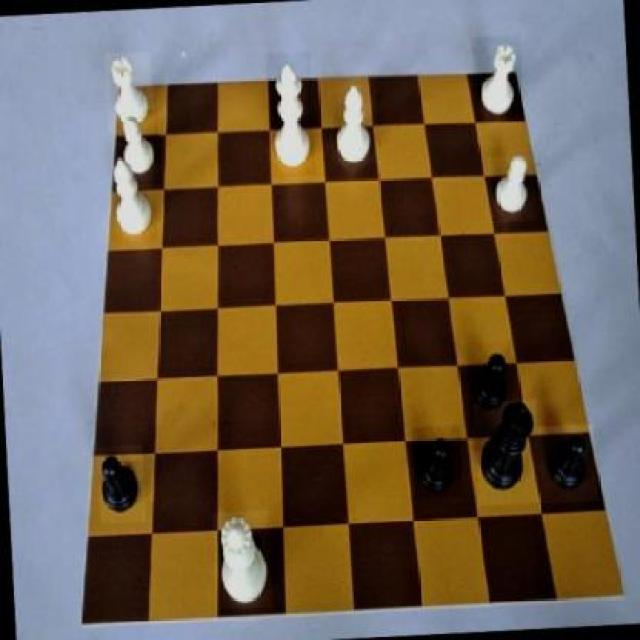black-bishop: (474, 400, 541, 508)
black-knight: (537, 424, 598, 504), (97, 444, 147, 524), (412, 426, 465, 500), (468, 340, 515, 421)
black-rook: (108, 146, 158, 243), (329, 77, 380, 165)
white-bishop: (266, 54, 317, 178)
white-knight: (212, 511, 273, 611), (116, 110, 162, 186), (489, 156, 537, 224)
white-queen: (472, 35, 525, 120), (104, 51, 154, 134)
